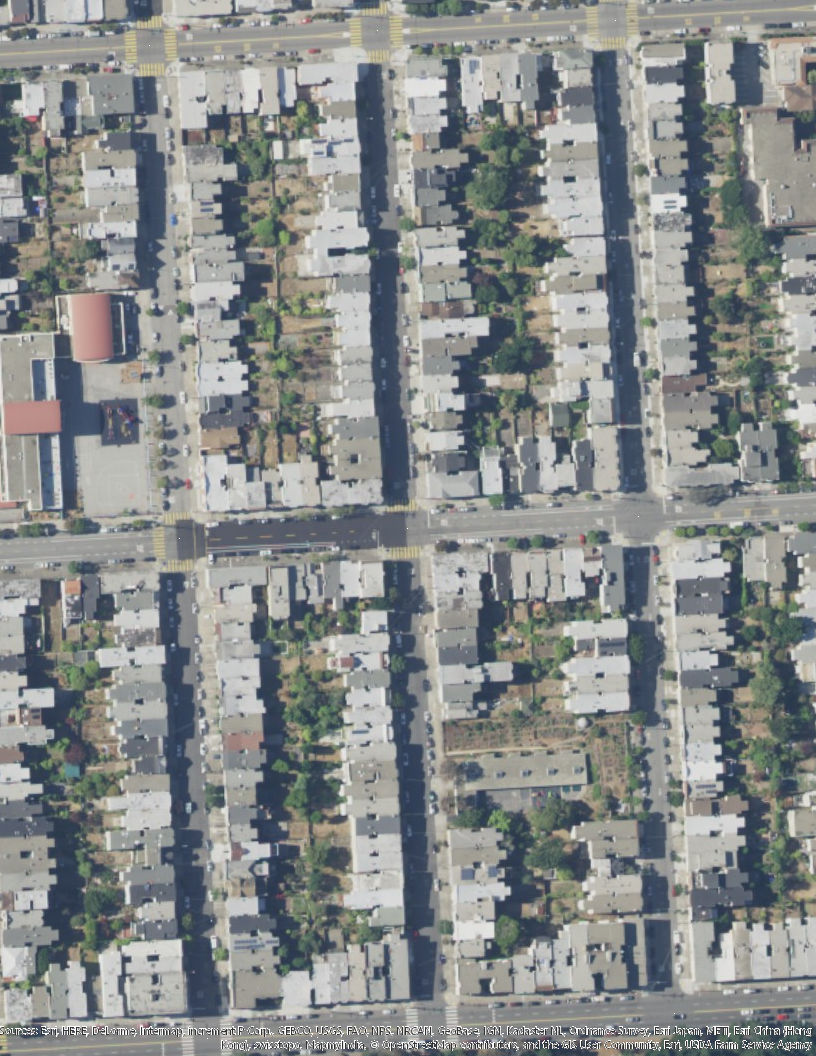zebracross: (624, 1, 640, 35), (384, 547, 425, 560), (388, 16, 404, 48), (124, 29, 138, 64), (586, 4, 600, 38), (446, 1006, 459, 1042), (163, 29, 178, 60), (152, 524, 165, 559), (384, 498, 419, 511), (349, 16, 364, 46), (599, 34, 626, 50), (221, 1022, 233, 1056), (180, 1027, 194, 1056), (406, 1010, 419, 1041), (165, 513, 196, 525), (135, 16, 161, 29), (362, 3, 388, 15), (166, 560, 194, 571), (139, 64, 164, 76), (368, 49, 390, 62)
